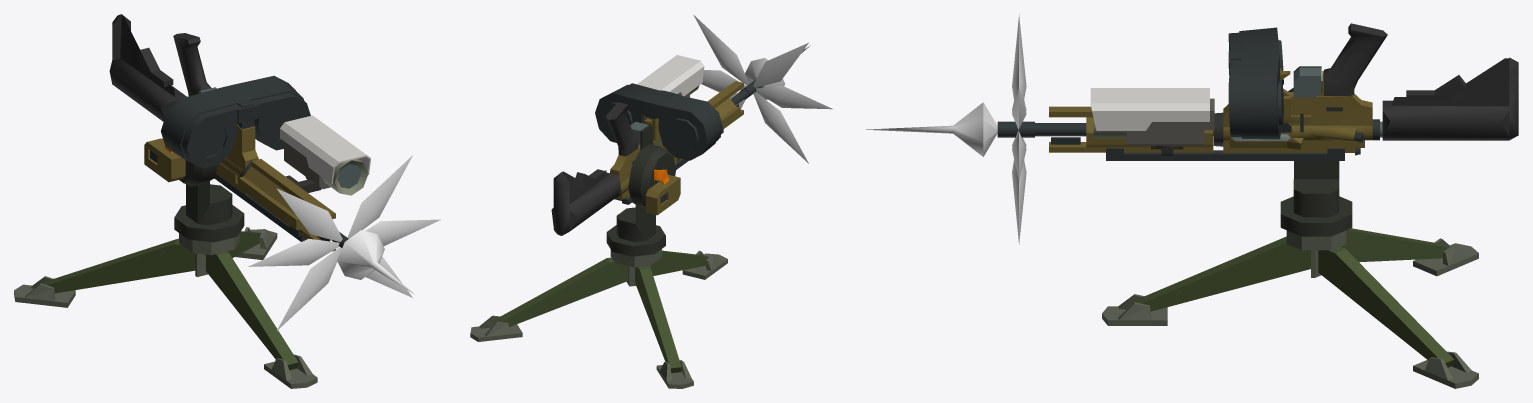
Rendered from Turret_GroundMounted.FBX.
3 views of the same model, side by side, from view 1: azimuth 30°, elevation 25°; view 2: azimuth 150°, elevation 25°; view 3: azimuth 270°, elevation 25° (orthographic). The views are drawn at different scales.
Visible parts, largest first — view 1: TurretGun, Turret_GroundMounted, MuzzleFlash, TurretHorizontalServo; view 2: TurretGun, Turret_GroundMounted, TurretHorizontalServo, MuzzleFlash; view 3: TurretGun, Turret_GroundMounted, TurretHorizontalServo, MuzzleFlash.
Part boxes in pixels (x1,y1,x2,y2): TurretGun: [109, 14, 370, 251]; Turret_GroundMounted: [14, 227, 317, 388]; MuzzleFlash: [248, 155, 440, 331]; TurretHorizontalServo: [144, 138, 244, 242]; TurretGun: [551, 55, 762, 235]; Turret_GroundMounted: [470, 249, 727, 388]; TurretHorizontalServo: [606, 144, 680, 256]; MuzzleFlash: [693, 15, 832, 163]; TurretGun: [997, 23, 1518, 160]; Turret_GroundMounted: [1102, 228, 1478, 388]; TurretHorizontalServo: [1280, 81, 1352, 236]; MuzzleFlash: [866, 14, 1026, 244].
Bounding box in the file's own units: 55.75 × 110 × 54.11.
